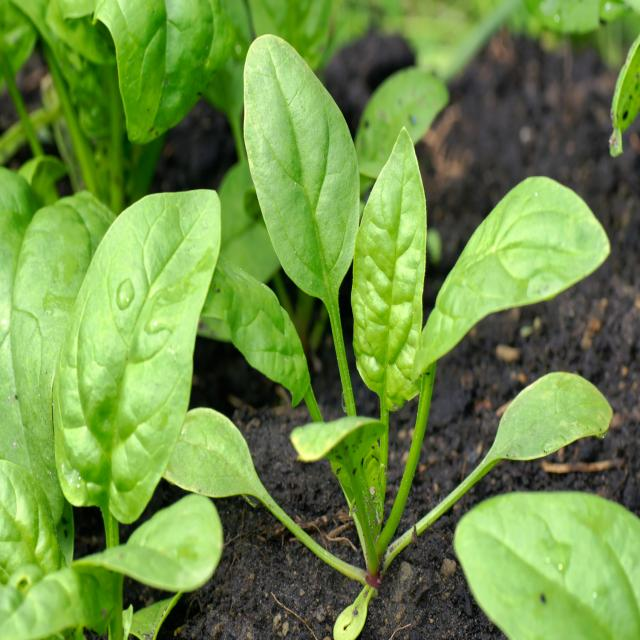spinach: (238, 32, 352, 294), (459, 490, 640, 640), (57, 312, 184, 518), (445, 176, 612, 320), (104, 0, 232, 138), (91, 186, 219, 306), (351, 139, 426, 325), (495, 365, 617, 462)
